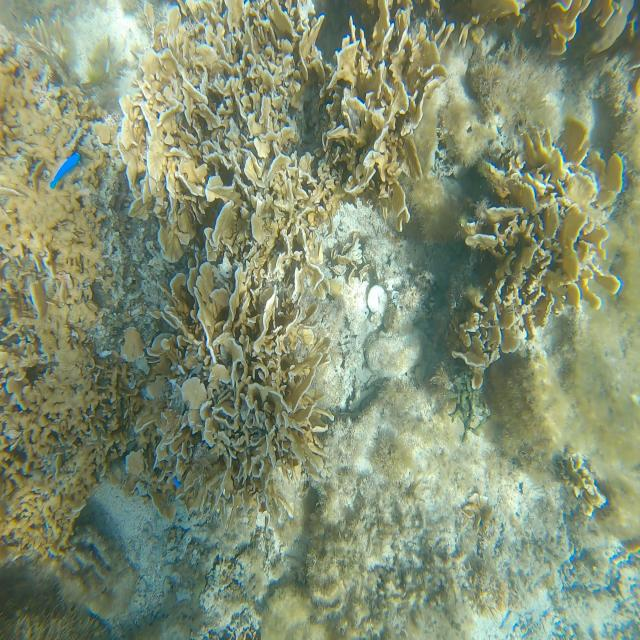kurohagi: (49, 152, 80, 188)
